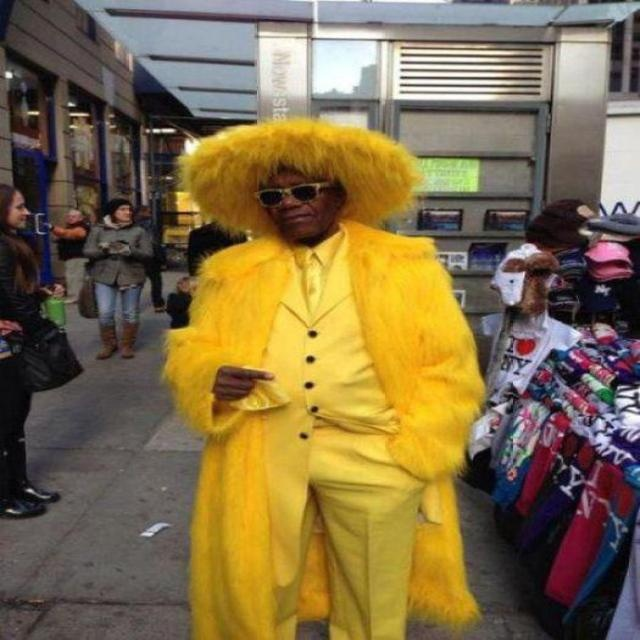obstacle: (122, 97, 515, 640)
